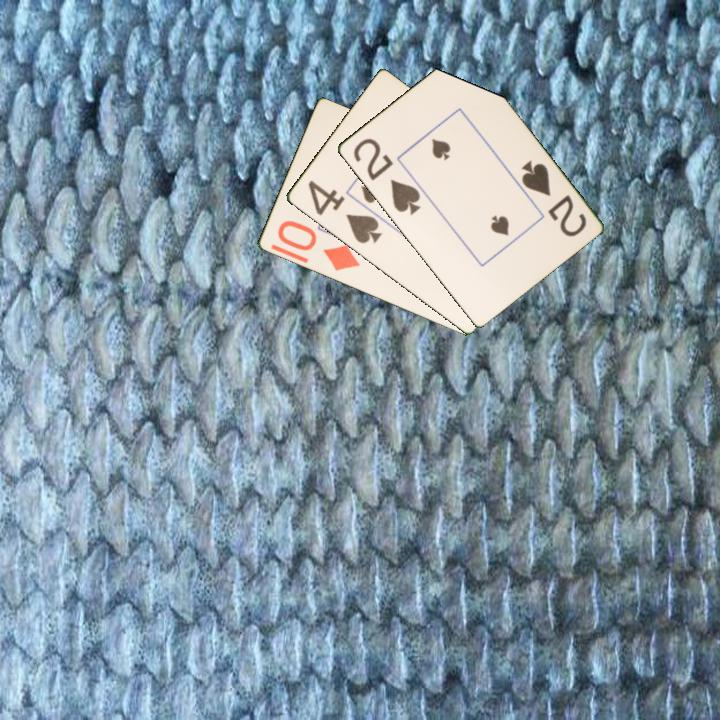10d: (273, 217, 362, 275)
2s: (349, 134, 423, 218), (517, 157, 589, 240)
4s: (304, 177, 384, 247)
